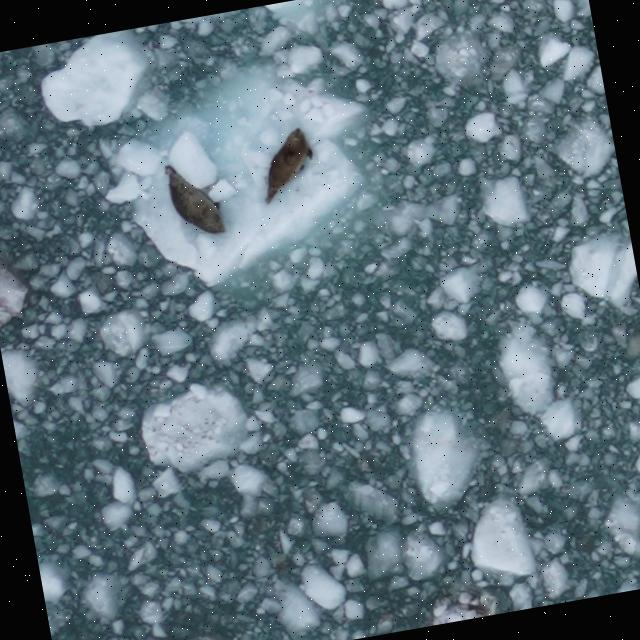seal: (159, 151, 230, 246), (249, 123, 325, 210)
